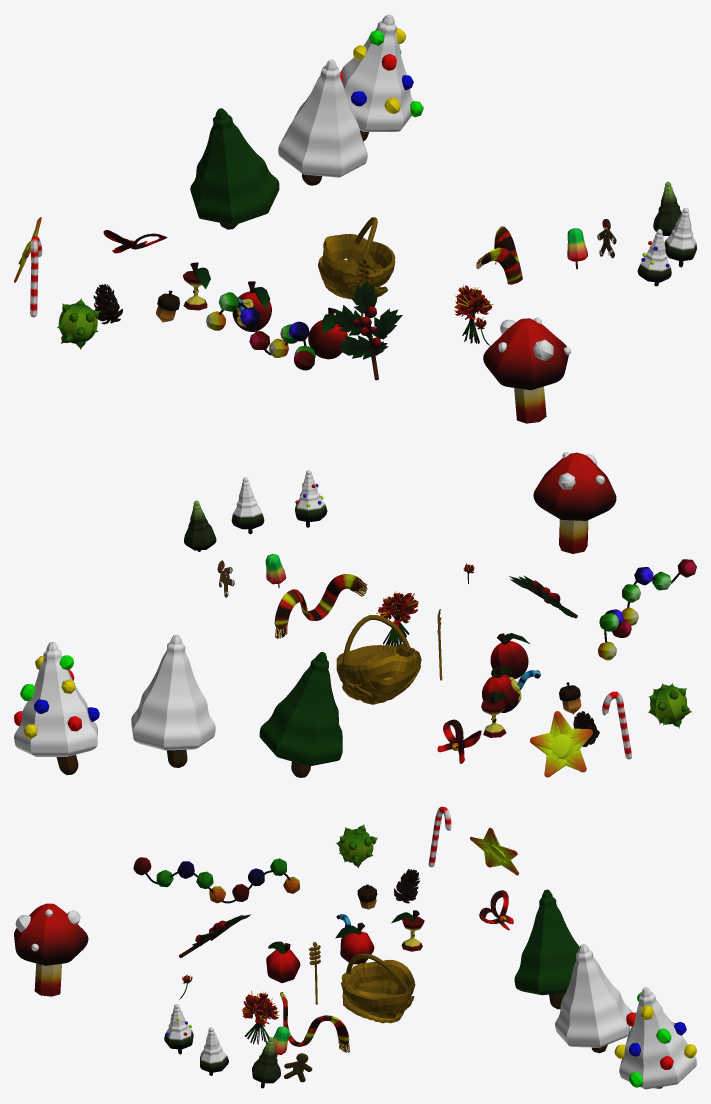
3 renders of one model, top to bottom at view 1: azimuth 30°, elevation 25°; view 2: azimuth 150°, elevation 25°; view 3: azimuth 270°, elevation 25°, orthographic. The views are drawn at different scales.
Visible parts, largest first — view 1: Treexmas1, Treexmas2, Treexmas, Champignon, Panier, Houx, Guirlande, Chataignes, Houx2, Bouquet1, Forest1, Forest (+6 smaller); view 2: Treexmas, Treexmas2, Treexmas1, Champignon, Panier, Guirlande, Etoile, Bouquet1, Chataignes, Houx3, Houx2, Paindepissss (+9 smaller); view 3: Treexmas, Treexmas2, Treexmas1, Champignon, Panier, Guirlande, Paindepissss, Houx3, Chataignes, Houx2, Etoile, Bouquet1 (+9 smaller).
Part boxes in pixels (x1,y1,x2,y2): Treexmas1: (190, 108, 279, 229); Treexmas2: (278, 59, 367, 185); Treexmas: (340, 14, 423, 141); Champignon: (483, 317, 571, 423); Panier: (318, 217, 395, 299); Houx: (331, 282, 402, 380); Guirlande: (206, 292, 315, 370); Chataignes: (57, 298, 100, 349); Houx2: (308, 307, 347, 359); Bouquet1: (476, 226, 522, 284); Forest1: (637, 229, 671, 286); Forest: (665, 207, 696, 267); Treexmas: (14, 642, 99, 775); Treexmas2: (131, 634, 215, 767); Treexmas1: (259, 652, 342, 777); Champignon: (533, 452, 616, 553); Panier: (336, 615, 421, 704); Guirlande: (598, 559, 696, 660); Etoile: (530, 711, 592, 777); Bouquet1: (274, 574, 367, 638); Chataignes: (648, 683, 691, 728); Houx3: (482, 666, 540, 712); Houx2: (490, 633, 530, 679); Paindepissss: (376, 591, 418, 646); Treexmas: (614, 987, 696, 1089); Treexmas2: (555, 944, 631, 1053); Treexmas1: (514, 889, 579, 1009); Champignon: (14, 903, 88, 996); Panier: (341, 953, 415, 1023); Guirlande: (133, 857, 299, 903); Paindepissss: (242, 991, 279, 1044); Houx3: (335, 914, 374, 964); Chataignes: (336, 824, 377, 868); Houx2: (266, 941, 300, 982); Etoile: (470, 827, 519, 875); Bouquet1: (280, 992, 349, 1052).
Bounding box in the file's own units: 9.19 × 2.06 × 10.8.
